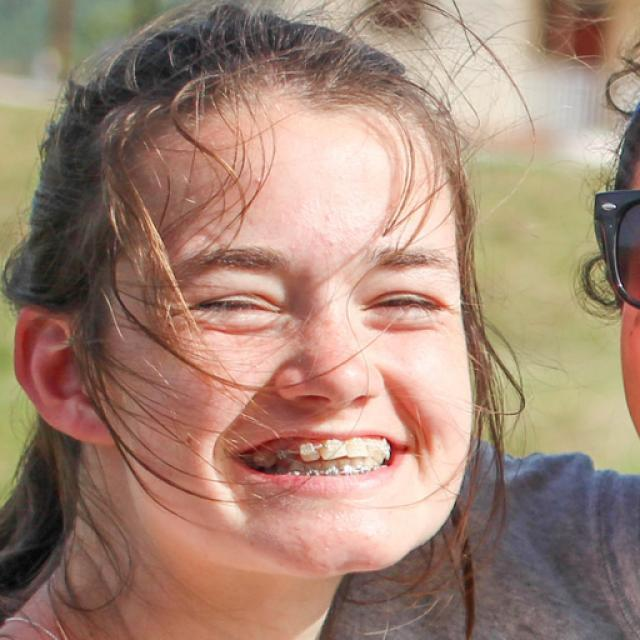happy: (109, 92, 478, 580)
